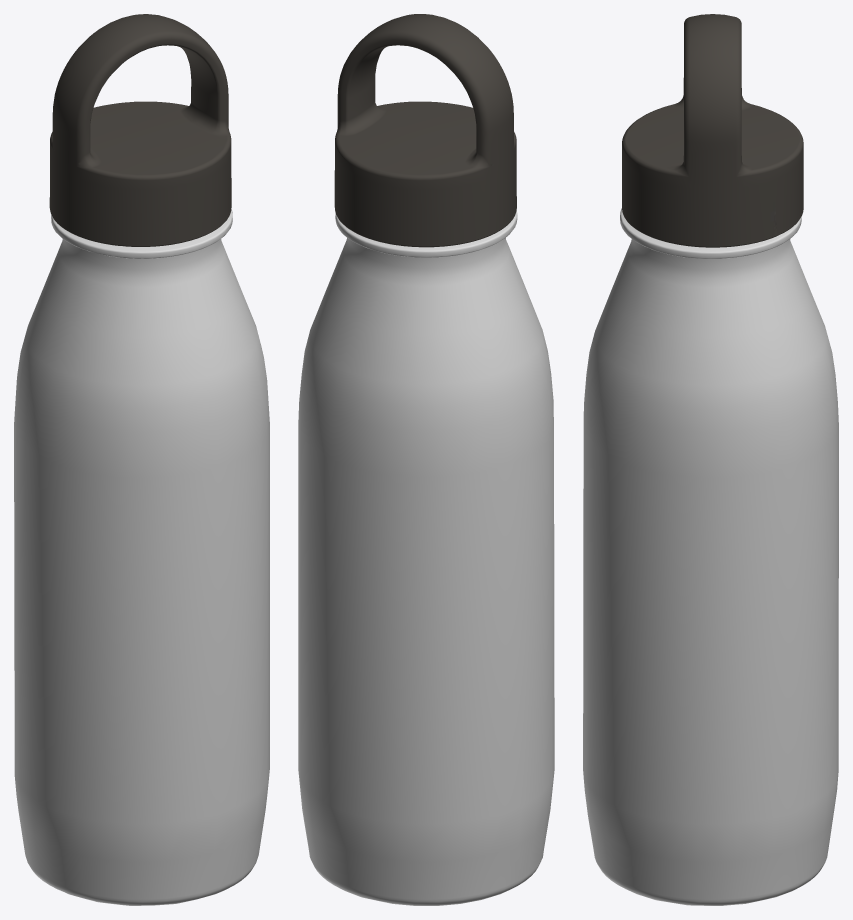
Rendered from Ikea20480013.glb.
The picture shows the model from 3 angles, left to right: view 1: azimuth 30°, elevation 25°; view 2: azimuth 150°, elevation 25°; view 3: azimuth 270°, elevation 25°; orthographic projection.
Visible parts, largest first — view 1: 2, 1; view 2: 2, 1; view 3: 2, 1.
Part boxes in pixels (x1,y1,x2,y2): 2: (14,209,269,905); 1: (49,14,231,246); 2: (298,210,554,905); 1: (334,14,516,247); 2: (583,208,838,905); 1: (622,14,803,247).
Size of the model in its own units: 0.066 by 0.2391 by 0.0662.
Materials: 2 (1 with a texture image).
